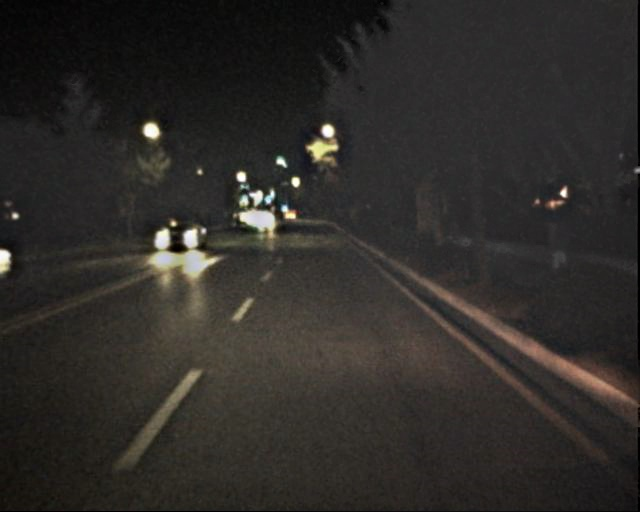person: (547, 202, 575, 283)
